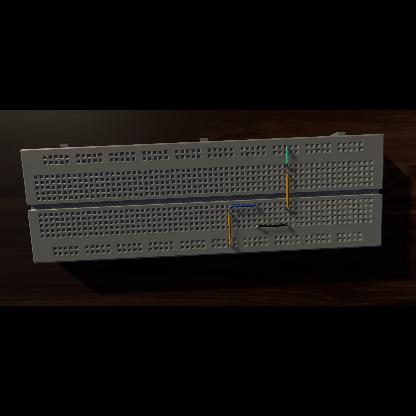breadboard: (20, 132, 384, 264)
wire: (254, 224, 288, 228), (228, 204, 256, 208), (228, 212, 231, 247), (286, 172, 288, 210), (286, 147, 288, 167)
